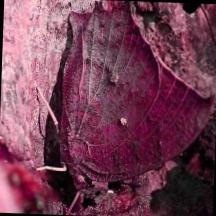butterfly: (62, 1, 214, 182)
